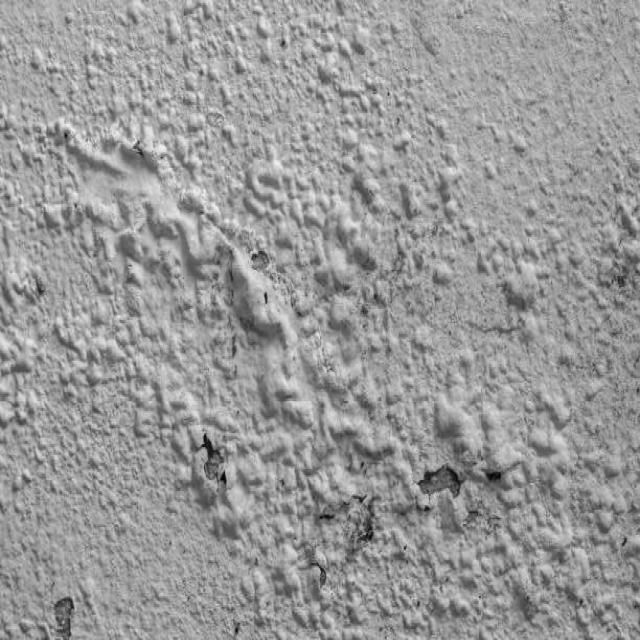peeling paint: (268, 442, 522, 605), (214, 224, 290, 408), (177, 410, 245, 516), (42, 586, 95, 640), (121, 124, 149, 174), (227, 608, 253, 640)
